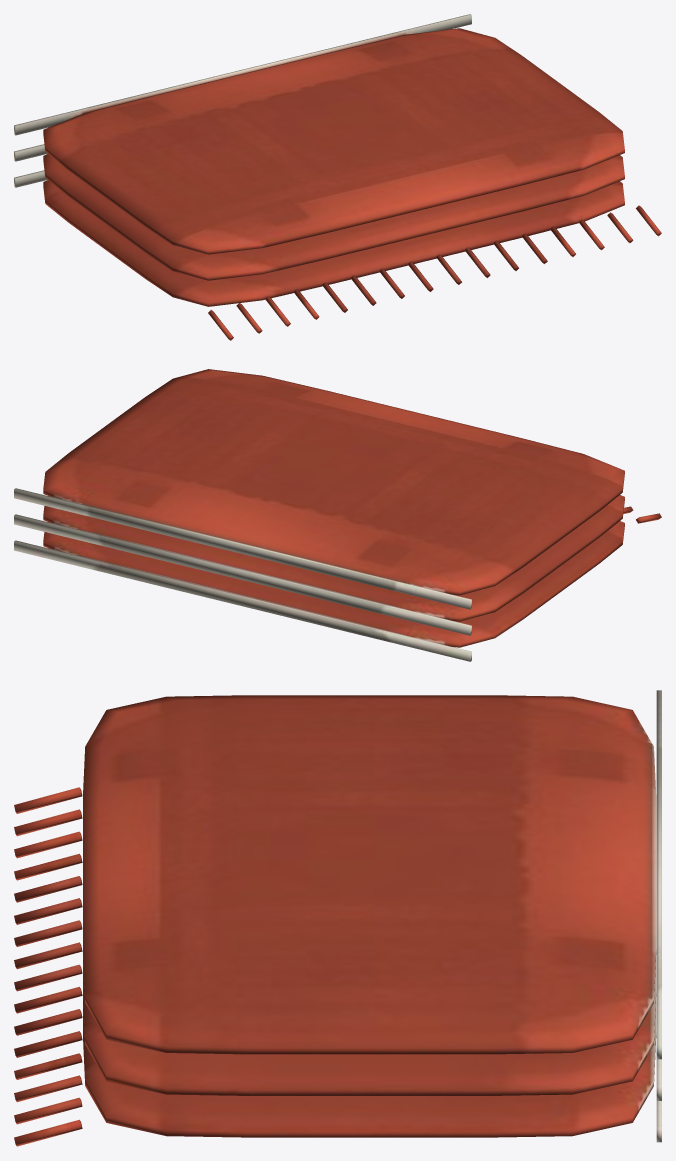
The model's file is blanket_red.glb.
3 views of the same model, one above another, from view 1: azimuth 30°, elevation 25°; view 2: azimuth 150°, elevation 25°; view 3: azimuth 270°, elevation 25° (orthographic). The views are drawn at different scales.
Parts seen in each view (by area): view 1: prop_blanket_red_felt; view 2: prop_blanket_red_felt; view 3: prop_blanket_red_felt.
Part boxes in pixels (box(x1,y1,x2,y2)): prop_blanket_red_felt: box(14, 14, 661, 340); prop_blanket_red_felt: box(14, 369, 661, 661); prop_blanket_red_felt: box(14, 690, 661, 1146).
Bounding box in the file's own units: 1.28 × 0.2194 × 0.9883.
1 material, 1 textured.
